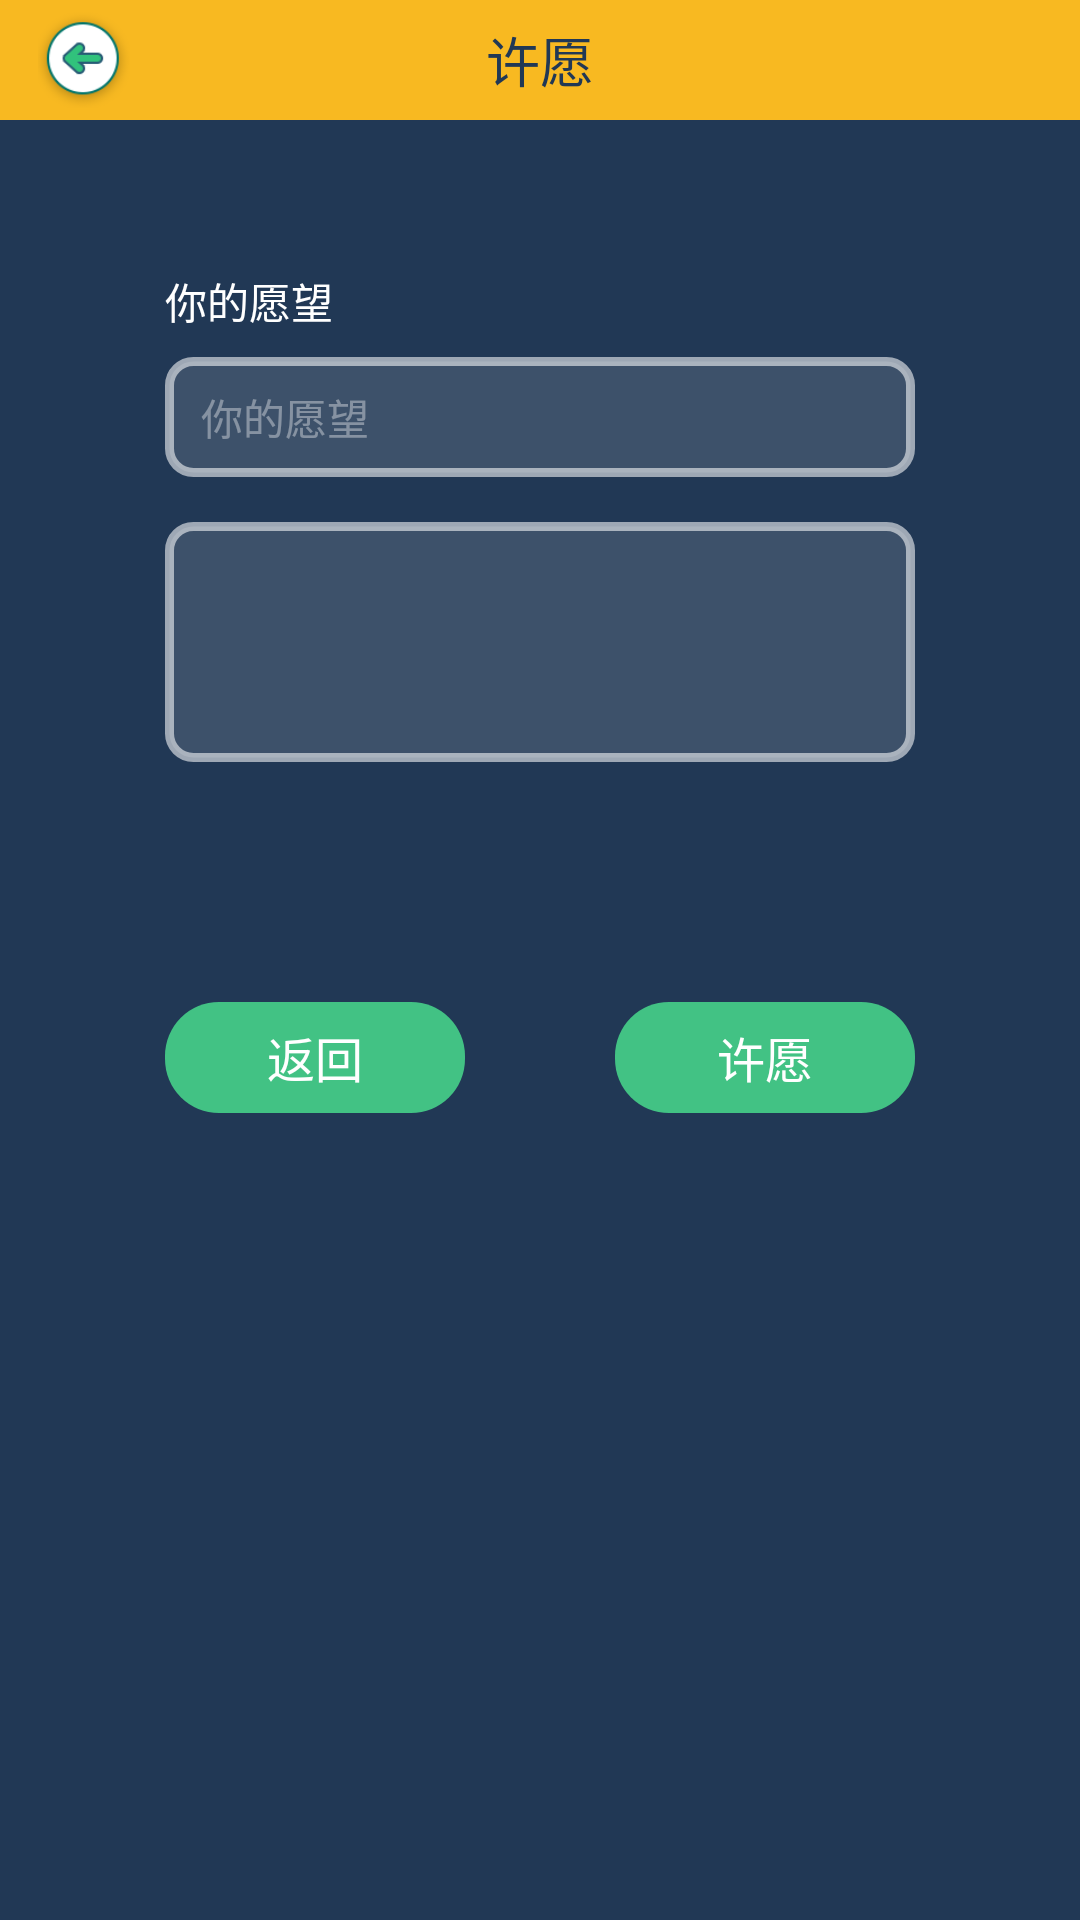

Icons on this 1080*1920 Android screen, each with the point to tap as (x=x, y=y):
back: (x=83, y=60)
